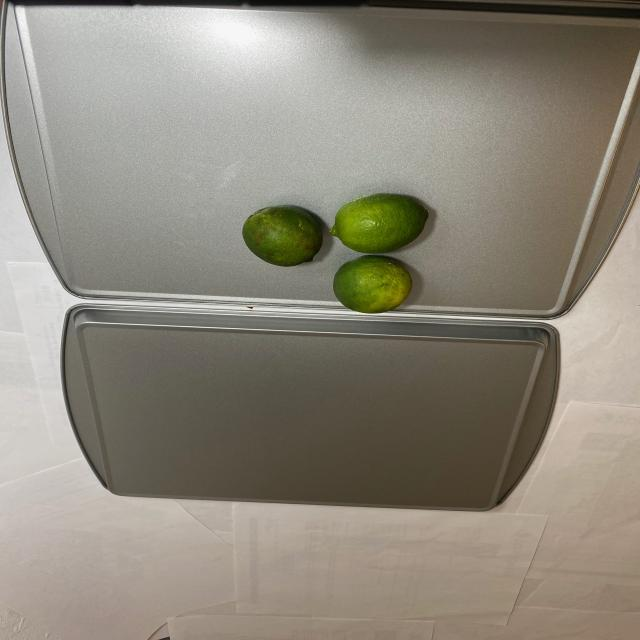lemon: (235, 191, 438, 312)
